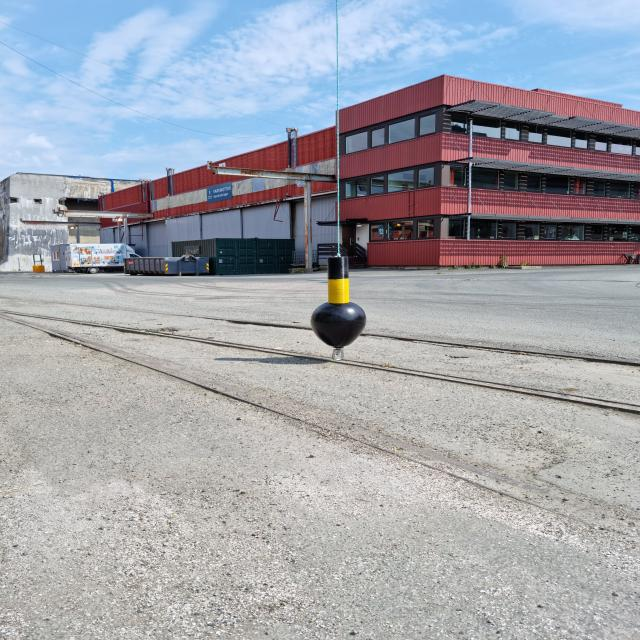east: (311, 258, 368, 348)
